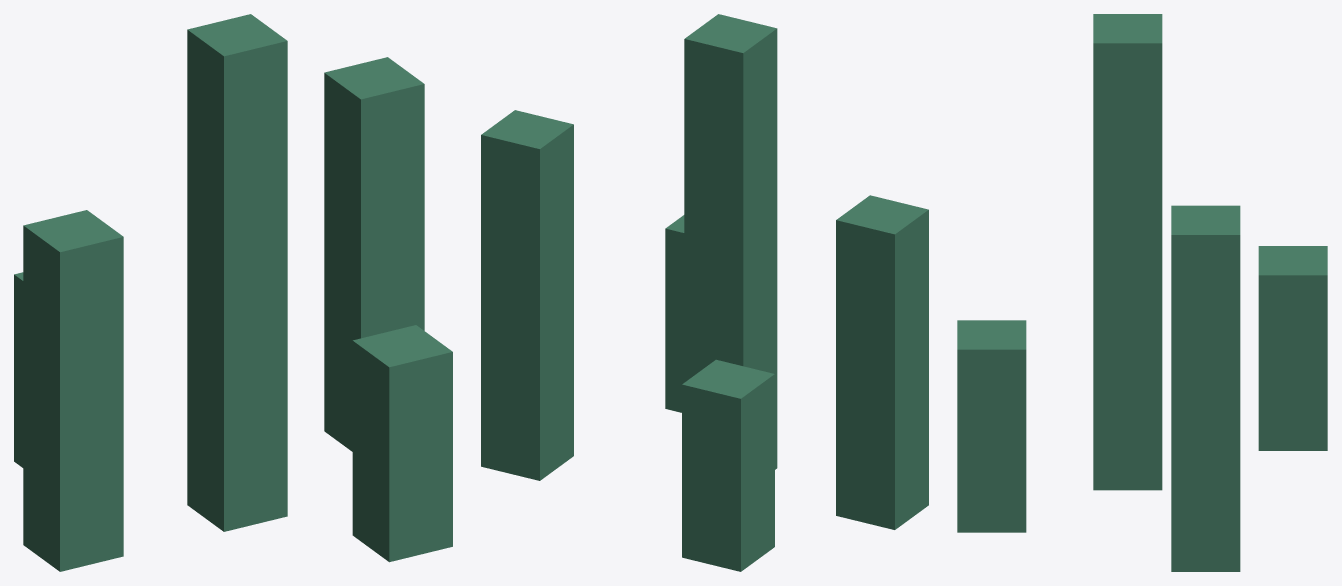
The model's file is naturePack_040.fbx.
3 views of the same model, side by side, from view 1: azimuth 30°, elevation 25°; view 2: azimuth 150°, elevation 25°; view 3: azimuth 270°, elevation 25° (orthographic). The views are drawn at different scales.
Parts seen in each view (by area): view 1: Mesh1_Group1 Model, Mesh2_Group1 Model, Mesh4_Group1 Model, Mesh5_Group1 Model, Mesh3_Group1 Model; view 2: Mesh4_Group1 Model, Mesh1_Group1 Model, Mesh2_Group1 Model, Mesh3_Group1 Model, Mesh5_Group1 Model; view 3: Mesh1_Group1 Model, Mesh4_Group1 Model, Mesh5_Group1 Model, Mesh3_Group1 Model.
Part boxes in pixels (x1,y1,x2,y2): Mesh1_Group1 Model: (187,14,287,531); Mesh2_Group1 Model: (23,210,123,571); Mesh4_Group1 Model: (324,57,424,451); Mesh5_Group1 Model: (352,325,452,562); Mesh3_Group1 Model: (14,272,23,467); Mesh4_Group1 Model: (481,110,573,480); Mesh1_Group1 Model: (684,14,777,469); Mesh2_Group1 Model: (836,195,928,529); Mesh3_Group1 Model: (682,359,774,571); Mesh5_Group1 Model: (665,215,684,412); Mesh1_Group1 Model: (1093,14,1162,490); Mesh4_Group1 Model: (1171,205,1240,571); Mesh5_Group1 Model: (957,320,1026,532); Mesh3_Group1 Model: (1258,246,1327,450).
Bounding box in the file's own units: 0.5448 × 0.61 × 0.4579.
